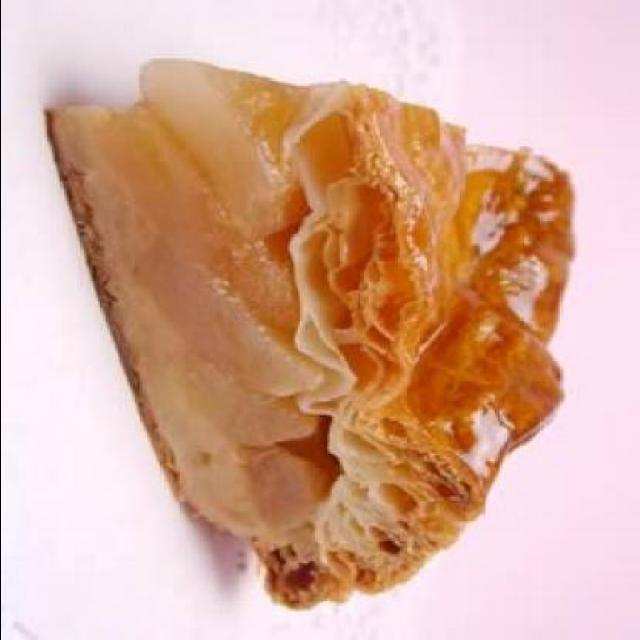Apple: (65, 69, 582, 602)
